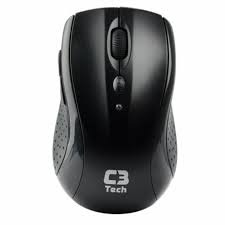mouse: (44, 9, 185, 218)
